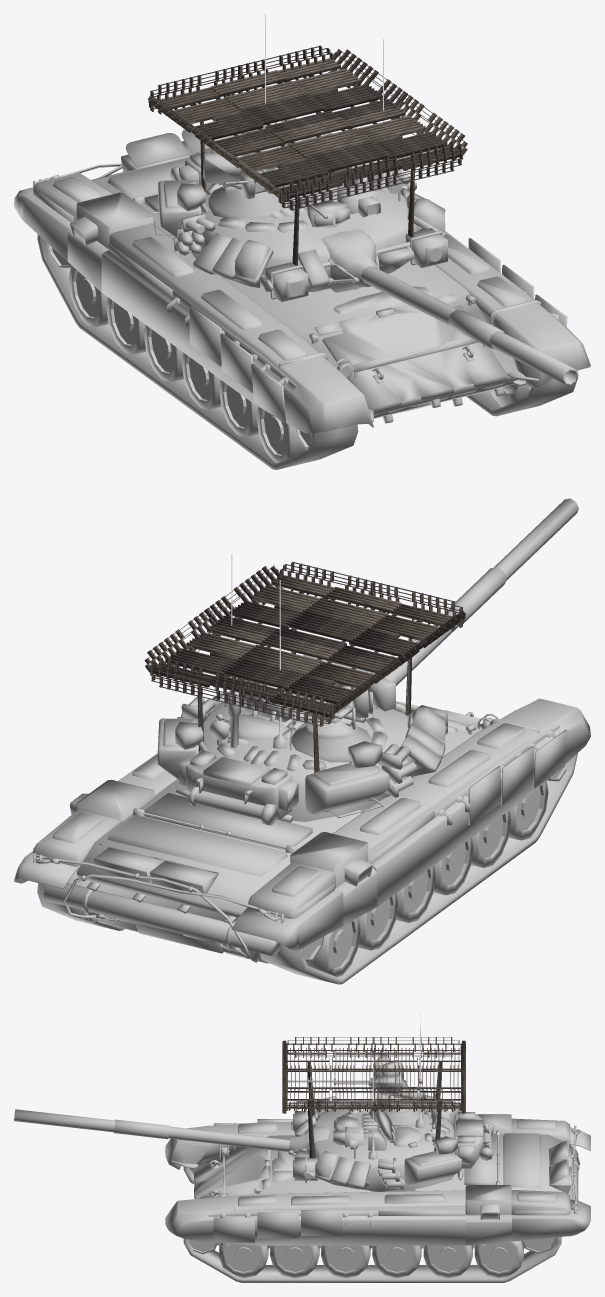
3 views of the same model, one above another, from view 1: azimuth 30°, elevation 25°; view 2: azimuth 150°, elevation 25°; view 3: azimuth 270°, elevation 25° (orthographic). The views are drawn at different scales.
Parts seen in each view (by area): view 1: t_90_2022_body1_1, basecage1_1, cage1_1, cage1_2, basecage1_4, basecage1_2, basecage1_5, basecage1_3, censor1, stack1_2; view 2: t_90_2022_body1_1, basecage1_1, cage1_2, cage1_1, mad1, basecage1_5, basecage1_2, basecage1_4, basecage1_3, hatchloaderbase1_3, cab1_1, cab_2_1; view 3: t_90_2022_body1_1, basecage1_1, basecage1_3, basecage1_2, cage1_1, cage1_2, hatchloaderbase1_3, stack1_2, basecage1_4.
Part boxes in pixels (left/top/right/bottom): t_90_2022_body1_1: left=14, top=14, right=590, bottom=469; basecage1_1: left=190, top=84, right=425, bottom=171; cage1_1: left=160, top=58, right=361, bottom=124; cage1_2: left=259, top=131, right=460, bottom=198; basecage1_4: left=278, top=141, right=463, bottom=210; basecage1_2: left=328, top=49, right=467, bottom=159; basecage1_5: left=149, top=45, right=333, bottom=114; basecage1_3: left=148, top=95, right=287, bottom=201; censor1: left=285, top=242, right=444, bottom=299; stack1_2: left=292, top=155, right=414, bottom=265; t_90_2022_body1_1: left=14, top=498, right=590, bottom=984; basecage1_1: left=186, top=600, right=422, bottom=688; cage1_2: left=251, top=574, right=452, bottom=640; cage1_1: left=152, top=648, right=352, bottom=716; mad1: left=43, top=883, right=280, bottom=955; basecage1_5: left=150, top=658, right=334, bottom=726; basecage1_2: left=144, top=565, right=283, bottom=676; basecage1_4: left=280, top=561, right=464, bottom=630; basecage1_3: left=326, top=611, right=466, bottom=717; hatchloaderbase1_3: left=229, top=714, right=286, bottom=740; cab1_1: left=63, top=874, right=257, bottom=918; cab_2_1: left=58, top=859, right=251, bottom=958; t_90_2022_body1_1: left=14, top=1013, right=590, bottom=1282; basecage1_1: left=331, top=1048, right=418, bottom=1109; basecage1_3: left=286, top=1037, right=461, bottom=1057; basecage1_2: left=286, top=1101, right=462, bottom=1111; cage1_1: left=418, top=1048, right=461, bottom=1109; cage1_2: left=286, top=1048, right=330, bottom=1109; hatchloaderbase1_3: left=393, top=1126, right=422, bottom=1146; stack1_2: left=307, top=1062, right=315, bottom=1158; basecage1_4: left=282, top=1040, right=287, bottom=1113.
Bounding box in the file's own units: 3890 × 4219 × 9867.
